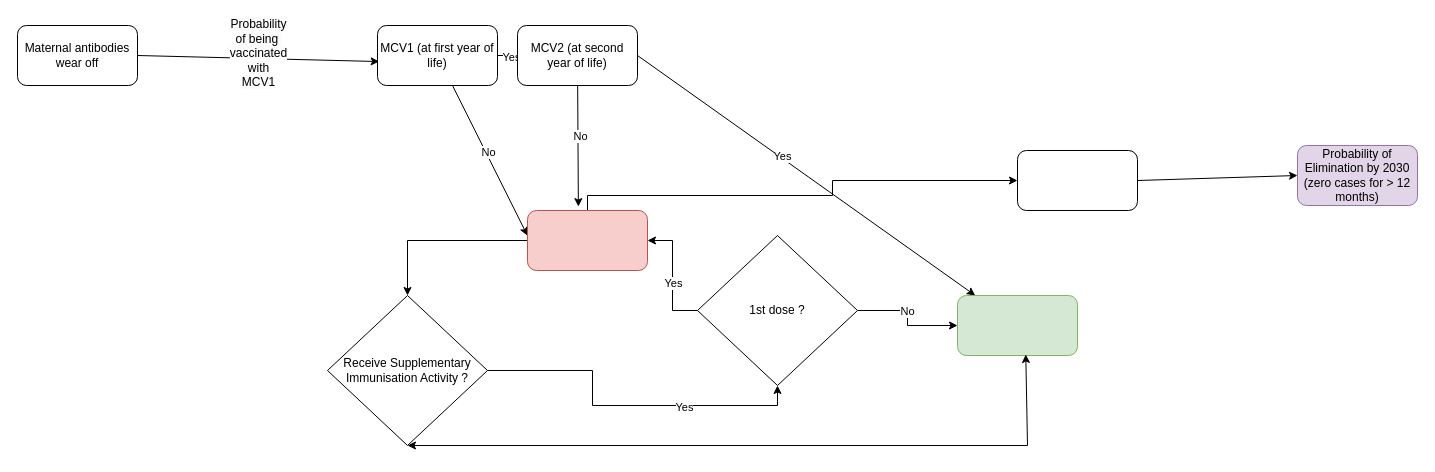
Some shapes in this 1435 by 472 pixel diagram are drawn without their labels. Here are the shapes that lost their labels. From the top down, the centre of each, then its label:
At point 1077,180: "Probability of infection".
At point 587,240: "Pool of Susceptibles".
At point 1017,325: "Pool of Immune".
